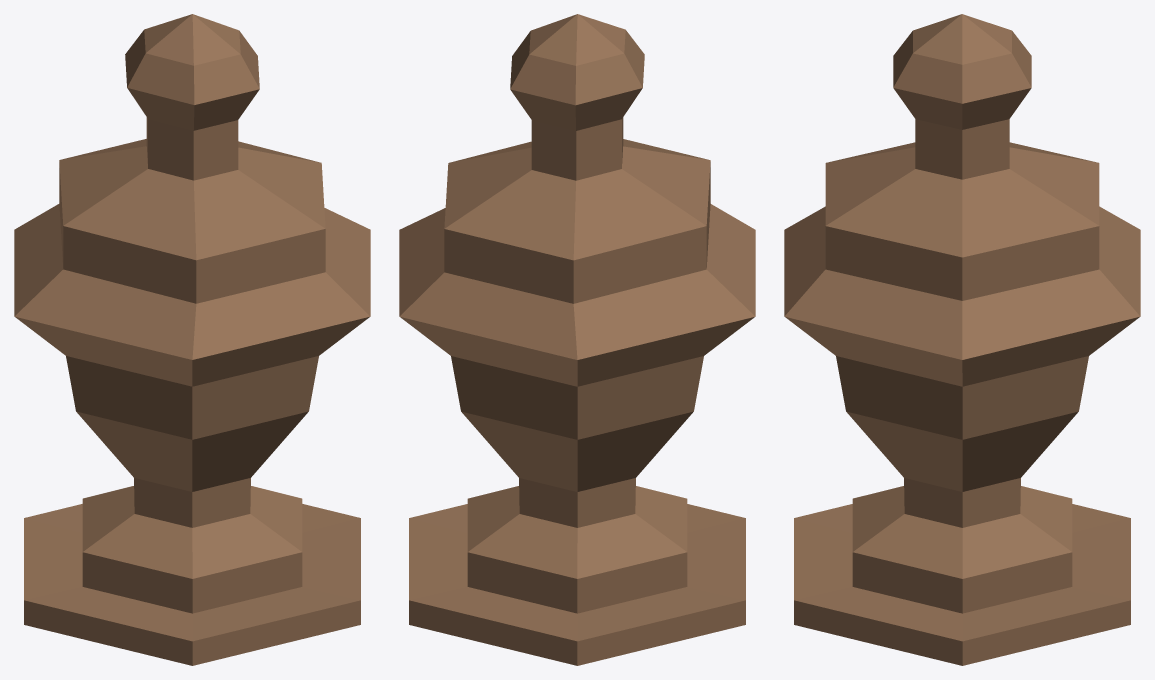
Rendered from Flowerpot-03.FBX.
3 views of the same model, side by side, from view 1: azimuth 30°, elevation 25°; view 2: azimuth 150°, elevation 25°; view 3: azimuth 270°, elevation 25° (orthographic).
Visible parts, largest first — view 1: Cylinder002; view 2: Cylinder002; view 3: Cylinder002.
Part boxes in pixels (x1,y1,x2,y2): Cylinder002: (14,14,370,665); Cylinder002: (399,14,755,665); Cylinder002: (784,14,1140,665).
Size of the model in its own units: 126 by 192 by 109.
